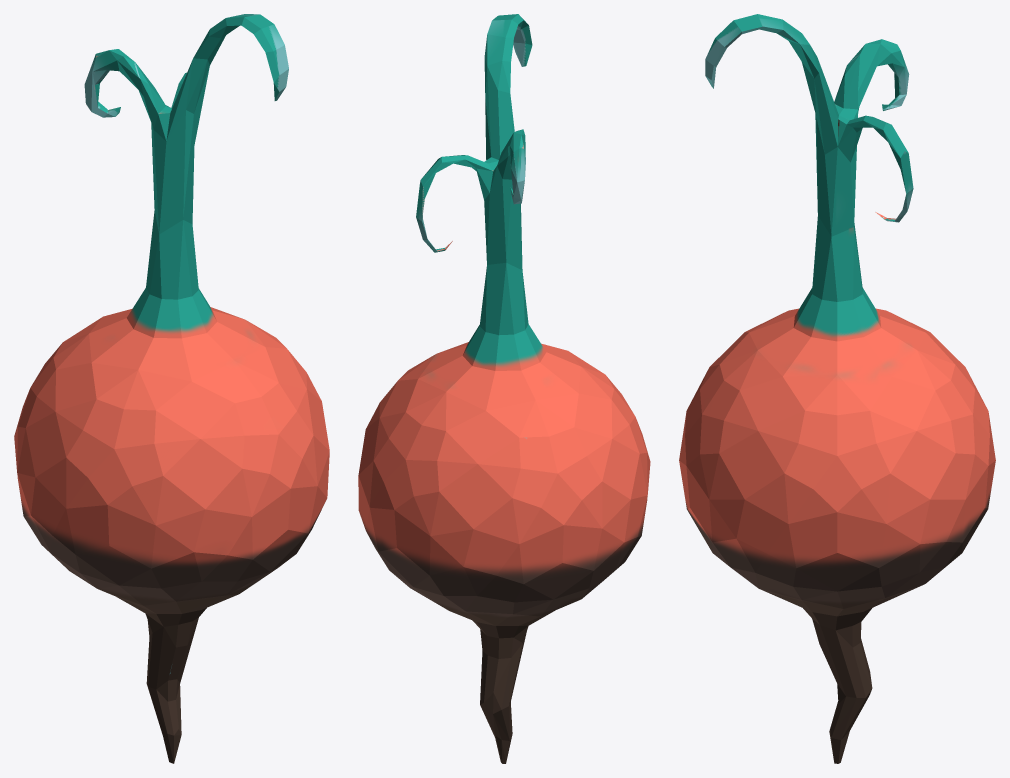
File: Beetroot.fbx
3 renders of one model, left to right at view 1: azimuth 30°, elevation 25°; view 2: azimuth 150°, elevation 25°; view 3: azimuth 270°, elevation 25°, orthographic. The views are drawn at different scales.
Parts seen in each view (by area): view 1: Body; view 2: Body; view 3: Body.
Part boxes in pixels (left/top/right/bottom): Body: left=14, top=14, right=329, bottom=763; Body: left=358, top=14, right=650, bottom=763; Body: left=679, top=14, right=995, bottom=763.
Bounding box in the file's own units: 185 × 493 × 185.
